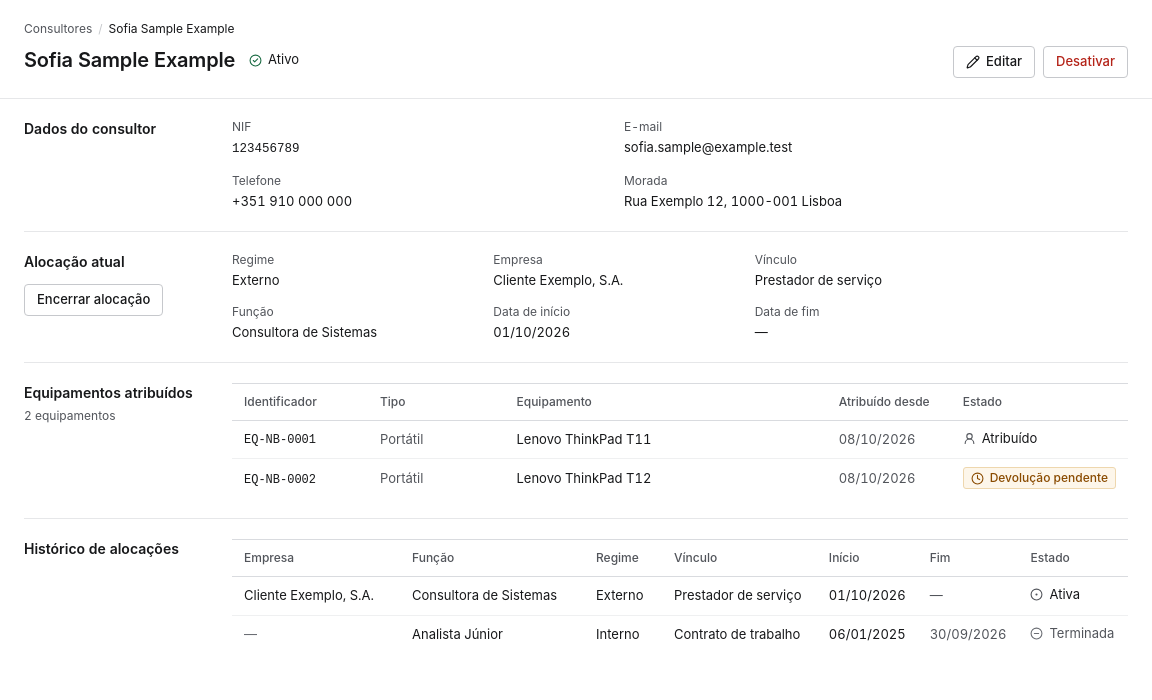
Test case: ConsultantDetailPage — Encerrar alocação / vínculo › shows the inline success banner with "Ver devoluções" to pending returns
This screenshot has width=1152, height=700.
Step 1. Click the button "Encerrar alocação" → click(94, 300), box [24, 284, 163, 316]
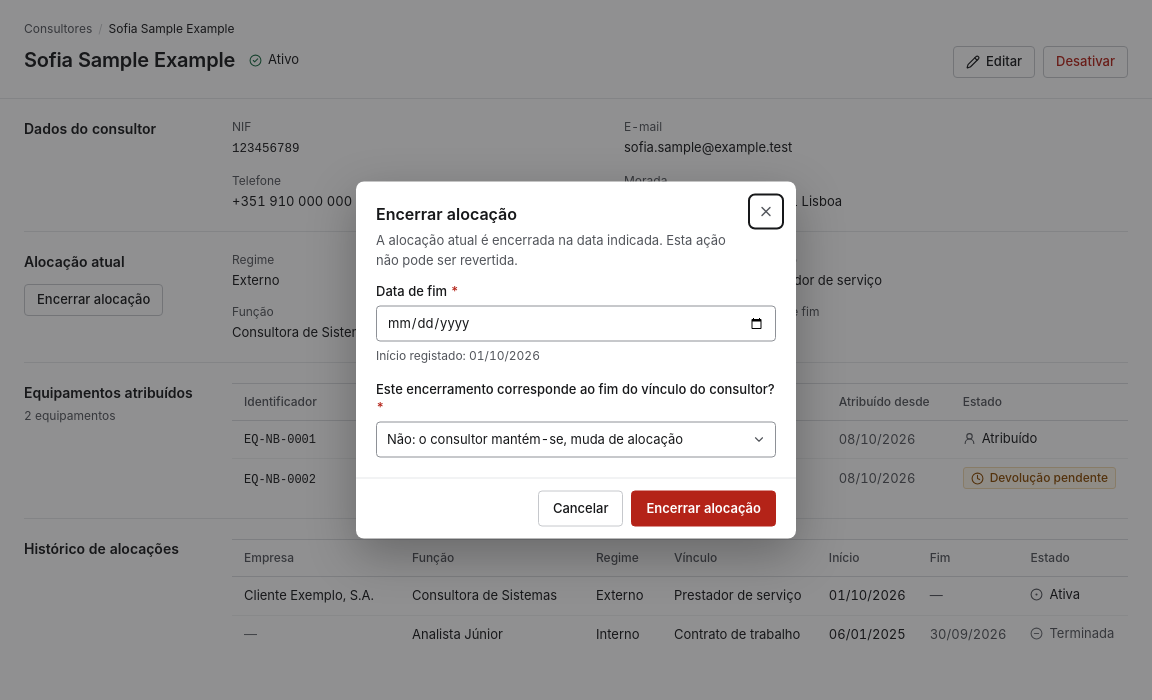
Step 2. Select "Sim: fim do vínculo" in the dropdown labelled "fim do vínculo" → (576, 440), box [376, 422, 776, 458]
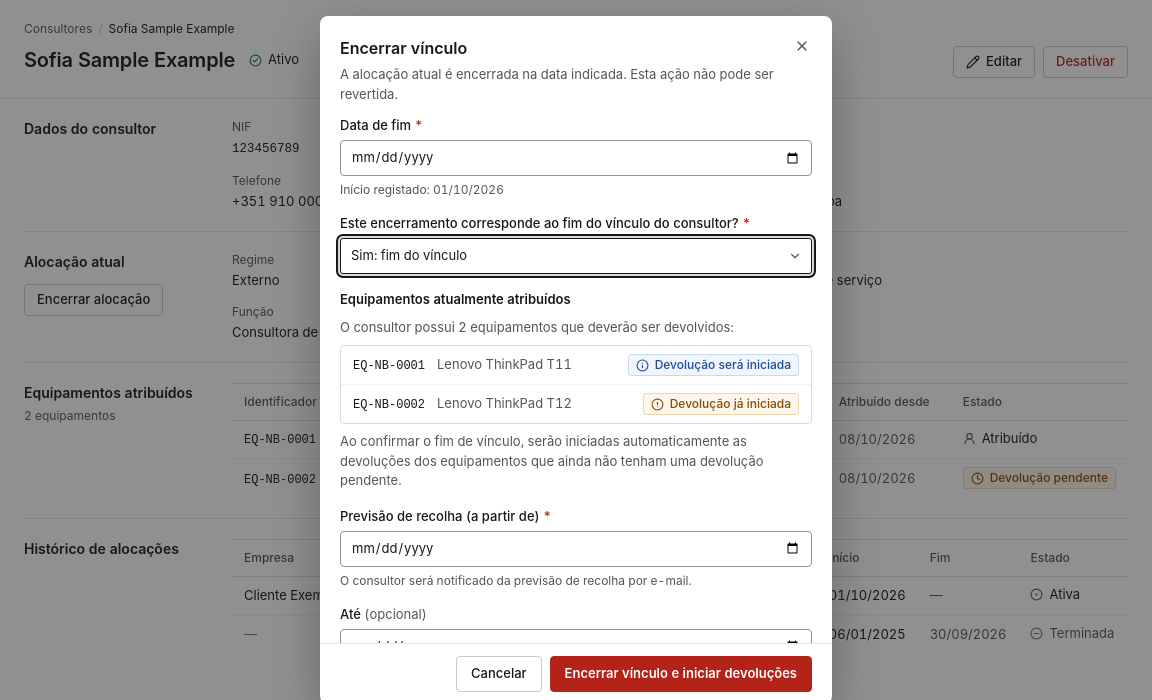
Step 3. Type "2026-10-31" into the date field labelled "Data de fim *" → (576, 158), box [340, 140, 812, 176]
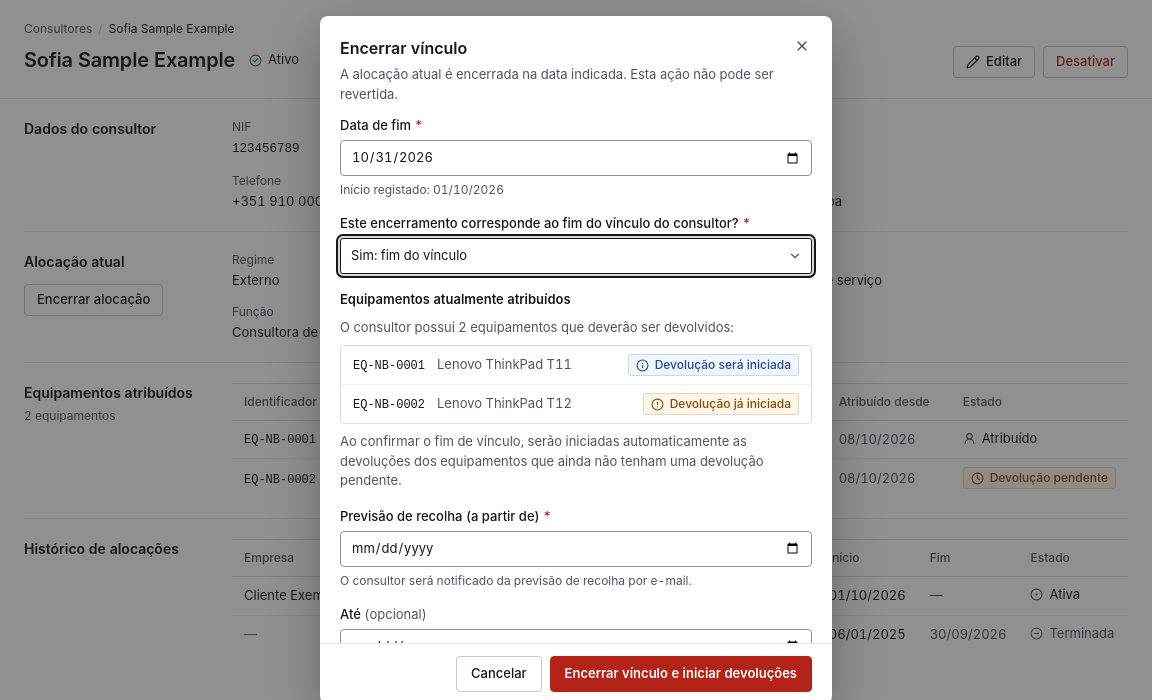
Step 4. Type "2026-11-02" into the date field labelled "Previsão de recolha (a partir de) *" → (576, 548), box [340, 530, 812, 566]
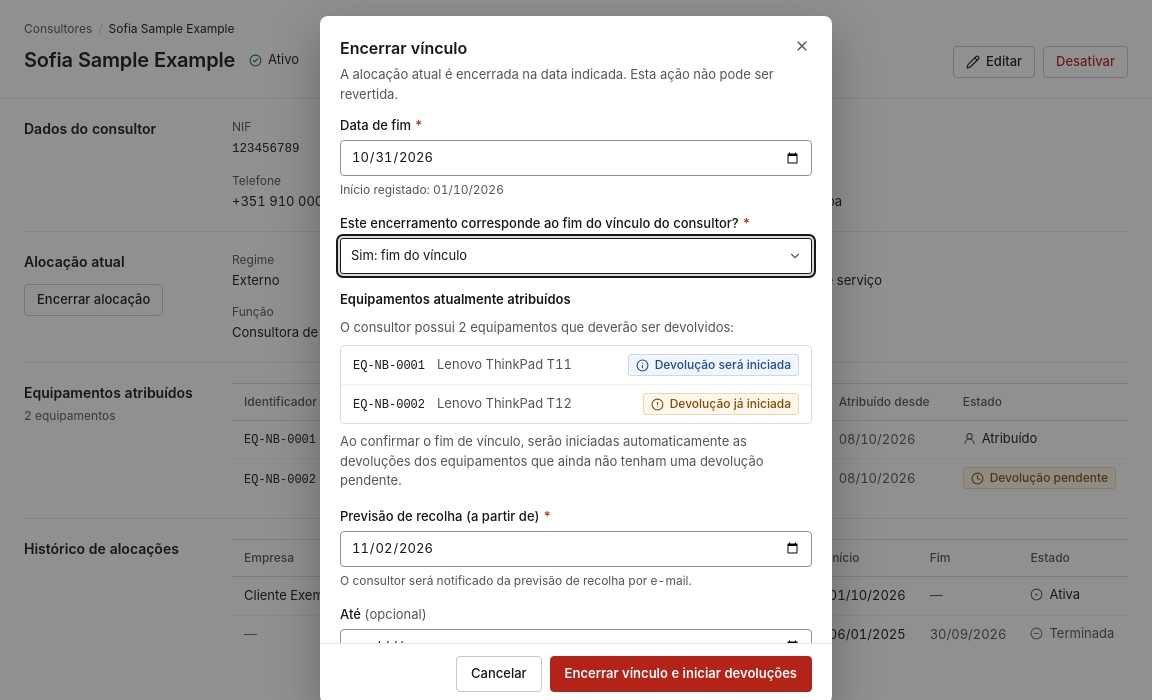
Step 5. Click the button "Encerrar vínculo e iniciar devoluções" → click(681, 674), box [550, 656, 812, 692]
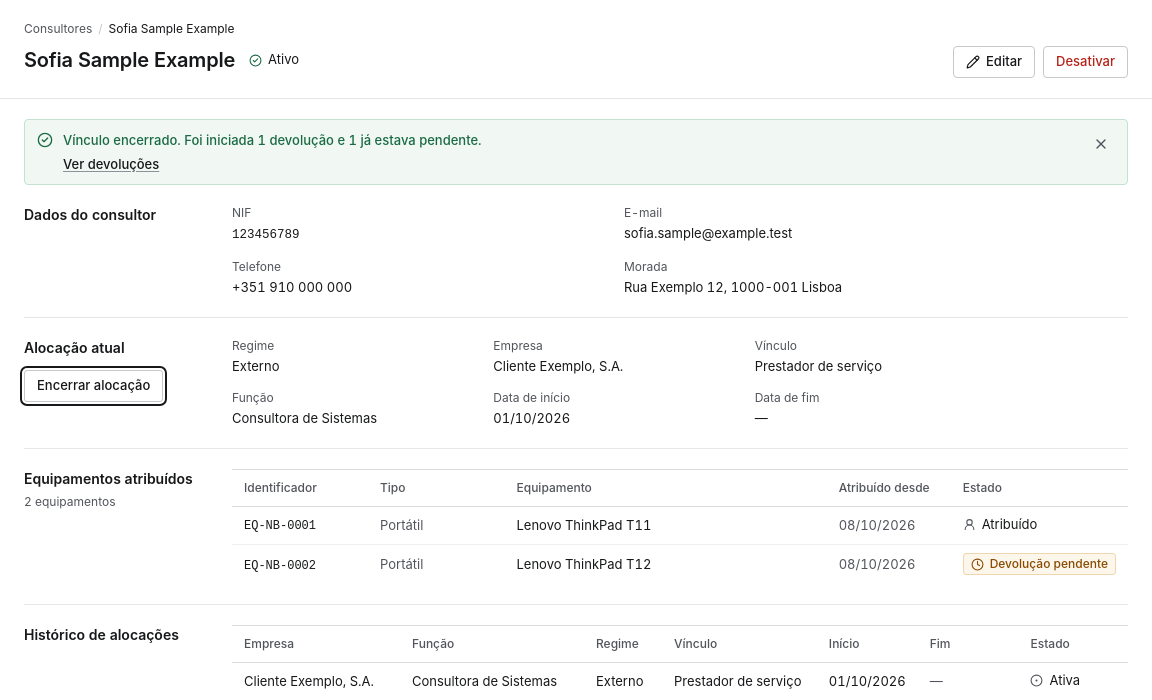
Expected: the message shows "Vínculo encerrado. Foi iniciada 1 devolução e 1 já estava pendente.", [63, 132, 482, 148]
Step 6. Click the button named "Fechar" → click(1101, 144), box [1087, 130, 1115, 158]
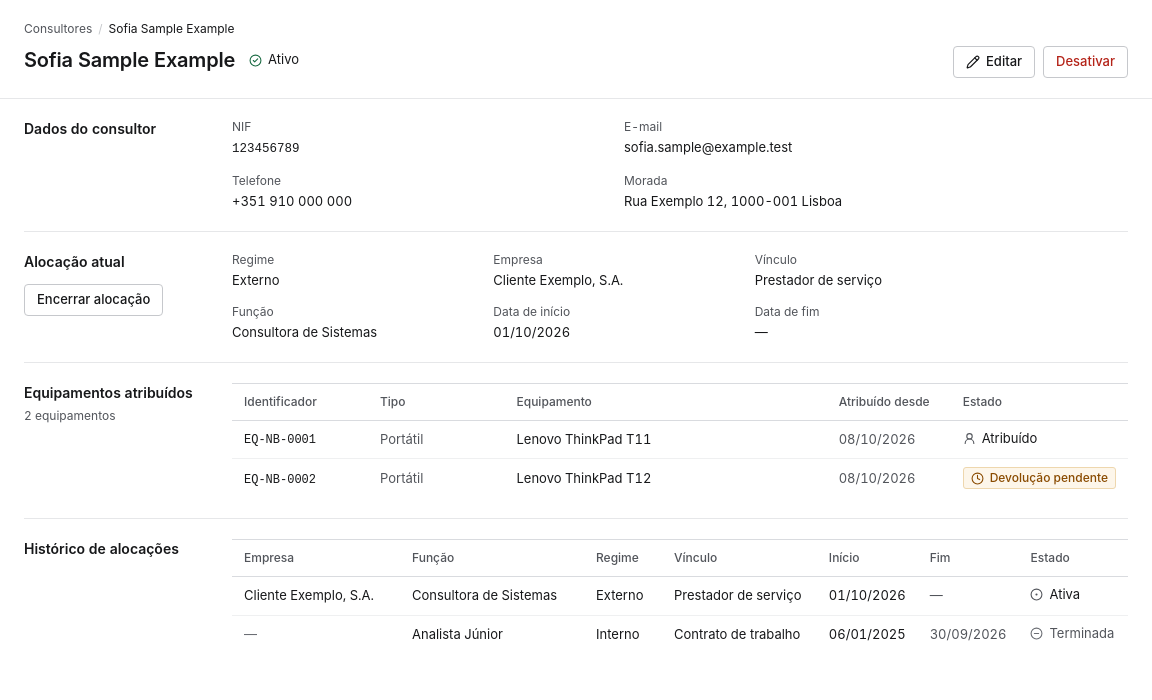
Expected: the message is gone
